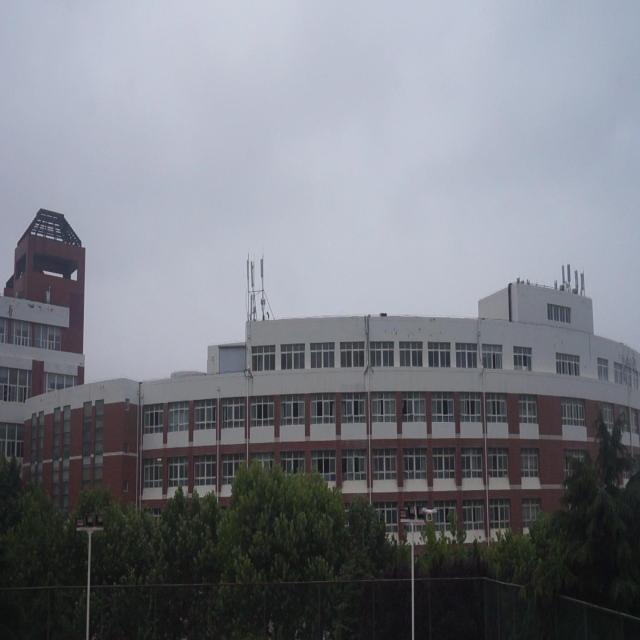drone: (419, 501, 438, 524)
